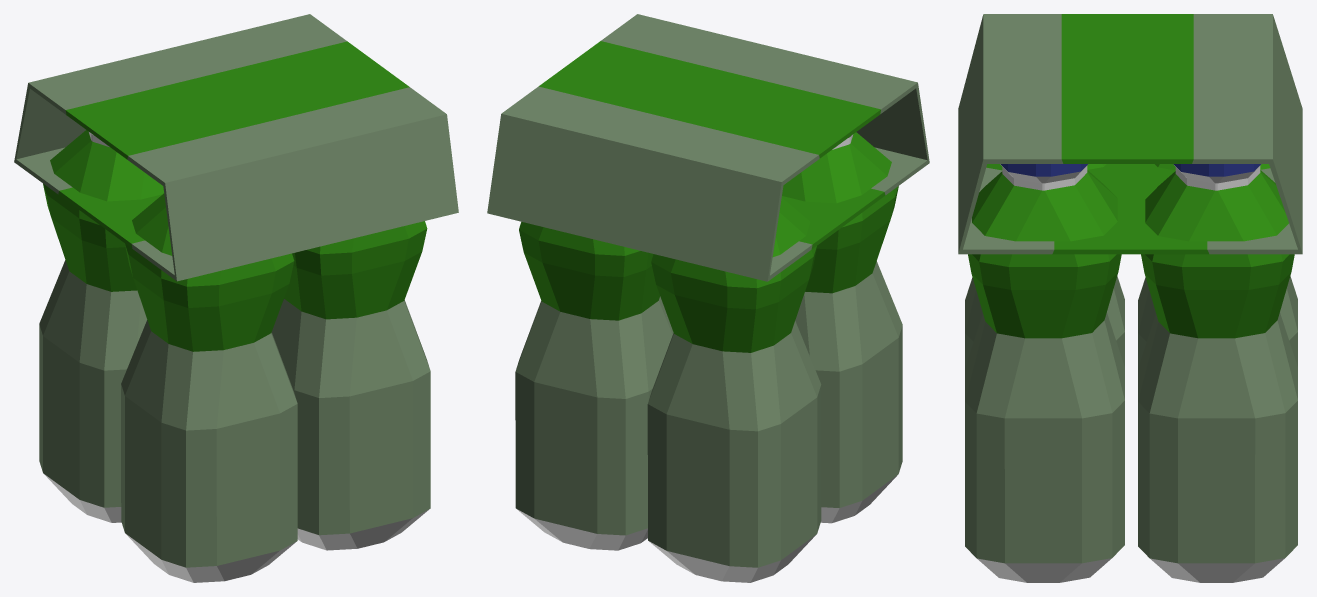
Rendered from Ma_Yogurt_Liquid_2.fbx.
3 renders of one model, left to right at view 1: azimuth 30°, elevation 25°; view 2: azimuth 150°, elevation 25°; view 3: azimuth 270°, elevation 25°, orthographic. The views are drawn at different scales.
Visible parts, largest first — view 1: Ma_Yogurt_Liquid_2; view 2: Ma_Yogurt_Liquid_2; view 3: Ma_Yogurt_Liquid_2.
Boxes of the visible parts, x1=… form: Ma_Yogurt_Liquid_2: x1=14, y1=14, x2=458, y2=582; Ma_Yogurt_Liquid_2: x1=487, y1=14, x2=929, y2=582; Ma_Yogurt_Liquid_2: x1=958, y1=14, x2=1302, y2=582.
Bounding box in the file's own units: 82.82 × 82.92 × 116.
